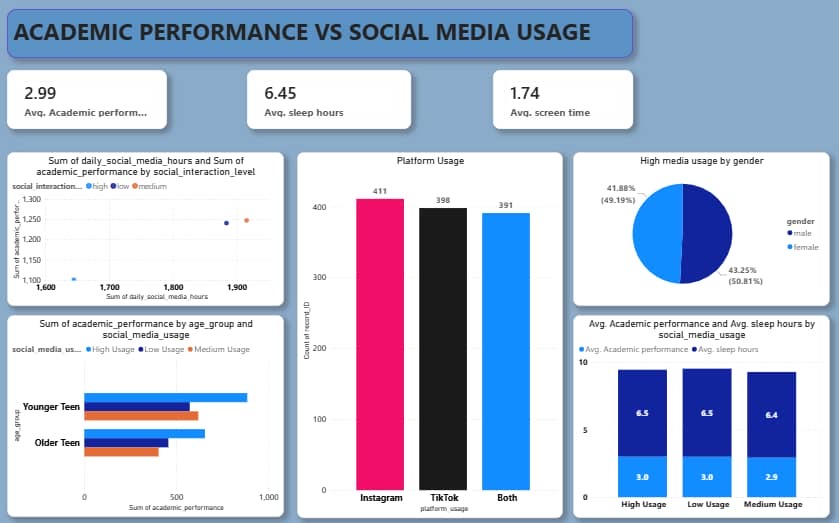

The page's visual inventory and layout, read from the dashboard file:
{"tool":"powerbi","page":{"name":"Dashboard2","canvas":[1800,1100],"ordinal":1},"visuals":[{"type":"scatterChart","fields":{"X":["Sum(Teen_Mental_health_project.daily_social_media_hours)"],"Y":["Sum(Teen_Mental_health_project.academic_performance)"],"Series":["Teen_Mental_health_project.social_interaction_level"]},"box":[31.8,320.5,602.3,320.5],"z":0},{"type":"columnChart","fields":{"Category":["Teen_Mental_health_project.social_media_usage"],"Y":["Teen_Mental_health_project.Avg. Academic performance","Teen_Mental_health_project.Avg. sleep hours"]},"box":[1229.5,661.4,540.9,422.7],"z":1000},{"type":"clusteredBarChart","fields":{"Category":["Teen_Mental_health_project.age_group"],"Series":["Teen_Mental_health_project.social_media_usage"],"Y":["Sum(Teen_Mental_health_project.academic_performance)"]},"box":[31.8,661.4,602.3,420.5],"z":2000},{"type":"clusteredColumnChart","title":"Platform Usage","fields":{"Category":["Teen_Mental_health_project.platform_usage"],"Y":["CountNonNull(Teen_Mental_health_project.record_ID)"]},"box":[654.5,320.5,556.8,763.6],"z":3000},{"type":"pieChart","fields":{"Category":["Teen_Mental_health_project.gender","Teen_Mental_health_project.social_media_usage"],"Y":["Teen_Mental_health_project.High media usage"]},"box":[1229.5,320.5,540.9,320.5],"z":4000},{"type":"cardVisual","fields":{"Data":["Teen_Mental_health_project.Avg. sleep hours"]},"box":[531.8,150,340.9,143.2],"z":5000},{"type":"cardVisual","fields":{"Data":["Teen_Mental_health_project.Avg. Academic performance"]},"box":[31.8,150,331.8,143.2],"z":6000},{"type":"textbox","box":[31.8,0,1304.5,125],"z":7000},{"type":"cardVisual","fields":{"Data":["Teen_Mental_health_project.Avg. screen time"]},"box":[1043.2,150,293.2,143.2],"z":8000}]}

Visuals, with their boxes in screenshot pixels (x1, y1, x2, y2), scaled from the page's 1800x1100 canvas onto the 839x523 screenshot:
scatterChart - Sum(Teen_Mental_health_project.daily_social_media_hours) x Sum(Teen_Mental_health_project.academic_performance): crop(15, 152, 296, 305)
columnChart - Teen_Mental_health_project.social_media_usage x Teen_Mental_health_project.Avg. Academic performance: crop(573, 314, 825, 515)
clusteredBarChart - Teen_Mental_health_project.age_group x Teen_Mental_health_project.social_media_usage: crop(15, 314, 296, 514)
"Platform Usage" clusteredColumnChart: crop(305, 152, 565, 515)
pieChart - Teen_Mental_health_project.gender x Teen_Mental_health_project.social_media_usage: crop(573, 152, 825, 305)
cardVisual - Teen_Mental_health_project.Avg. sleep hours: crop(248, 71, 407, 139)
cardVisual - Teen_Mental_health_project.Avg. Academic performance: crop(15, 71, 169, 139)
textbox: crop(15, 0, 623, 59)
cardVisual - Teen_Mental_health_project.Avg. screen time: crop(486, 71, 623, 139)
